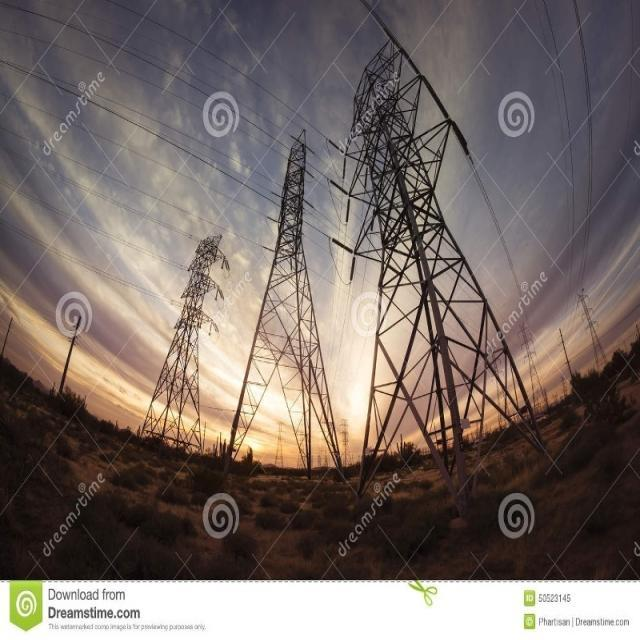non-critical vegetation: (332, 46, 574, 488), (221, 130, 353, 474), (136, 224, 223, 448)
